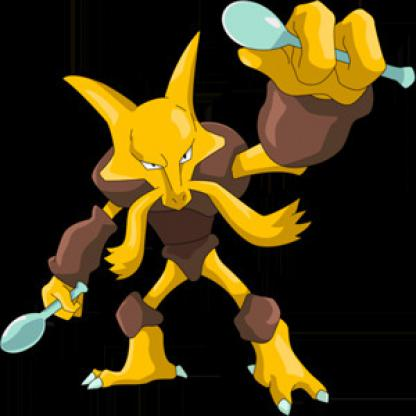Alakazam: (22, 1, 407, 408)
